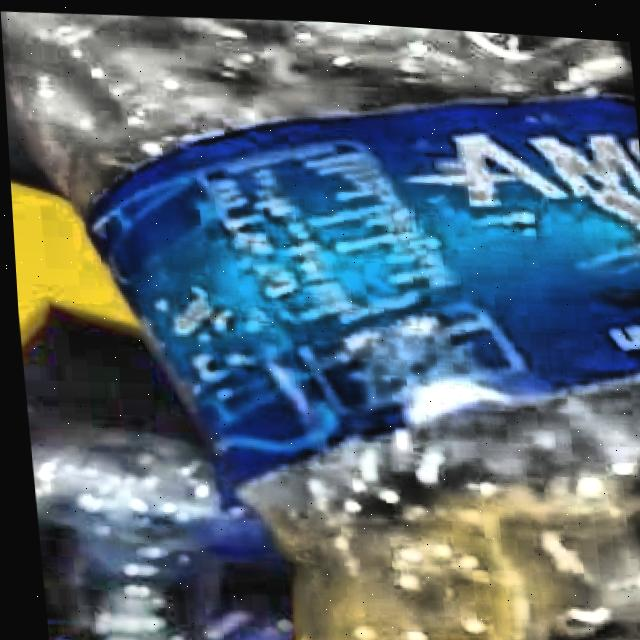plastic: (1, 11, 640, 640)
